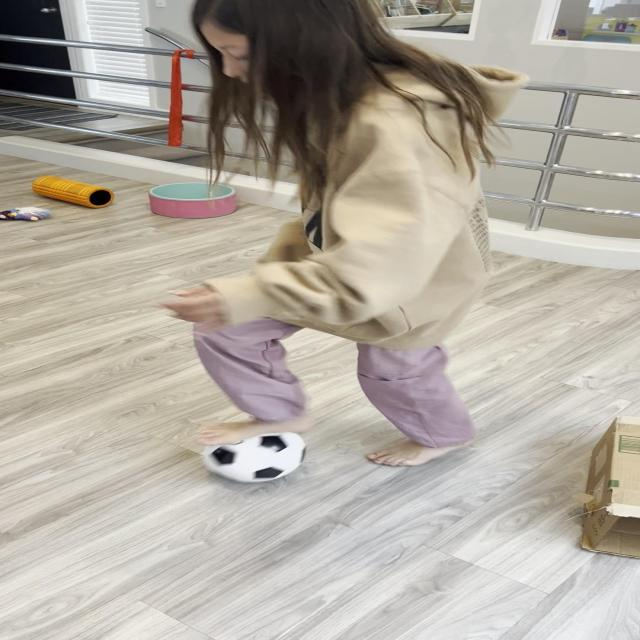Soccer Ball: (202, 425, 306, 483)
